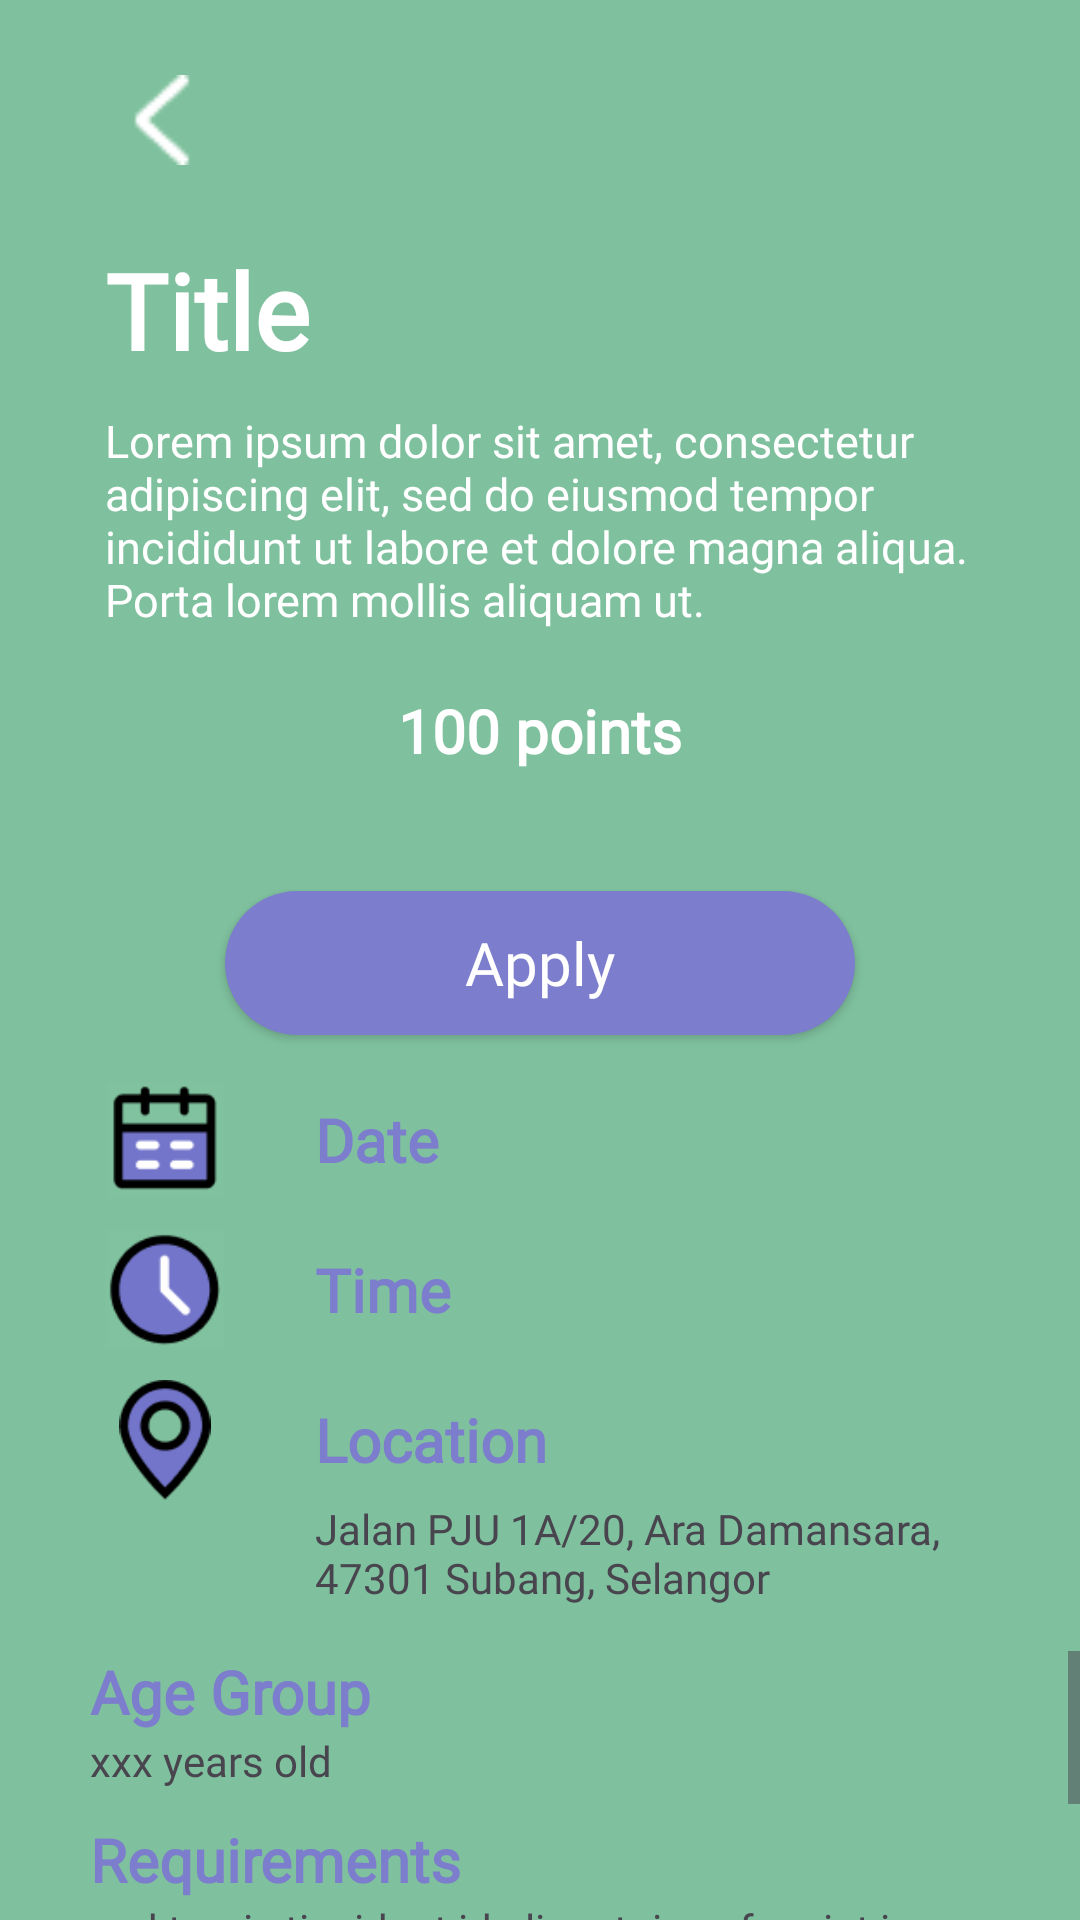

Icons on this 1080 × 1920 Android screen, each with the point to tap as [x,y]:
calendar: [165,1138]
chevron left: [162,120]
mapmarker: [165,1440]
